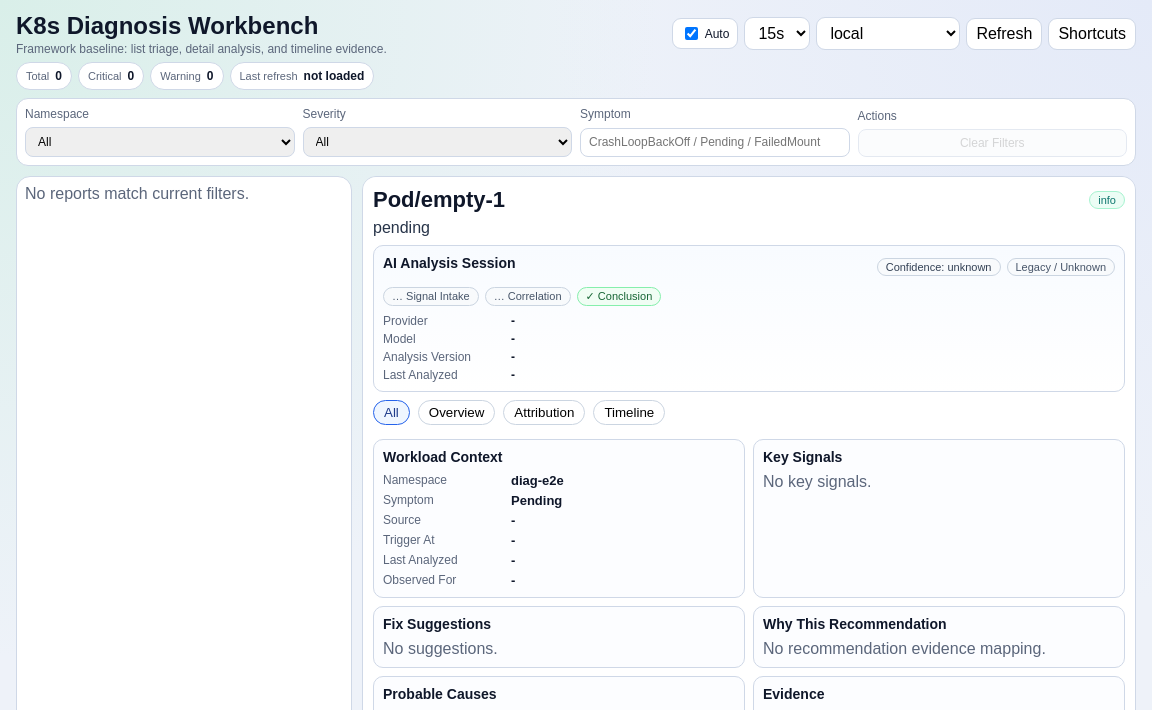
Scenario: App › shows unified empty state in timeline view when no timeline data
Check: the heading "Pod/empty-1" is shown, box [373, 187, 505, 213]
Click the button "timeline". click: [629, 412]
box: [593, 400, 665, 425]
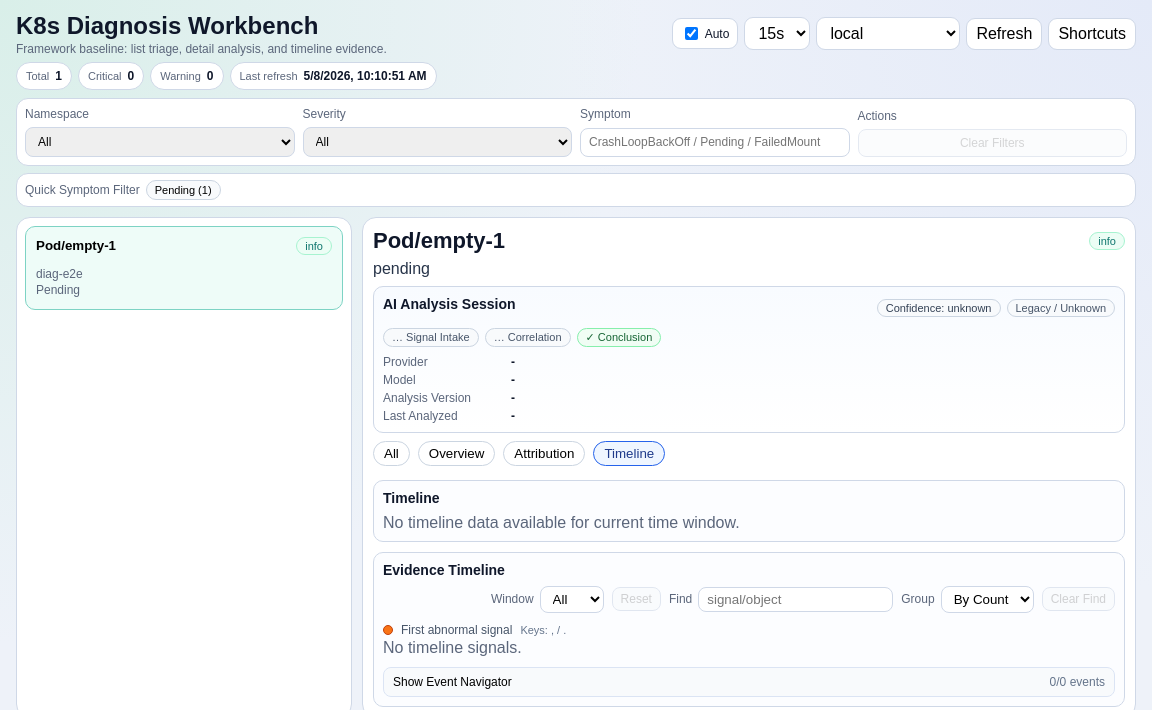
Check: the text "No timeline data available for current time window." is shown, box [383, 514, 740, 531]
